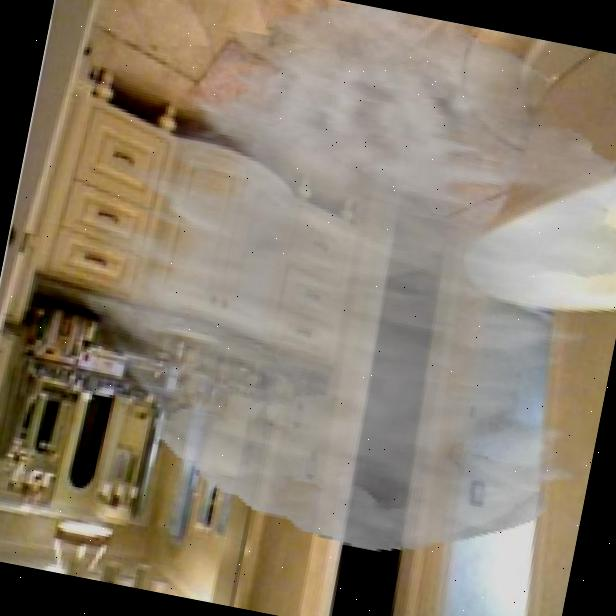smoke: (40, 0, 616, 589)
